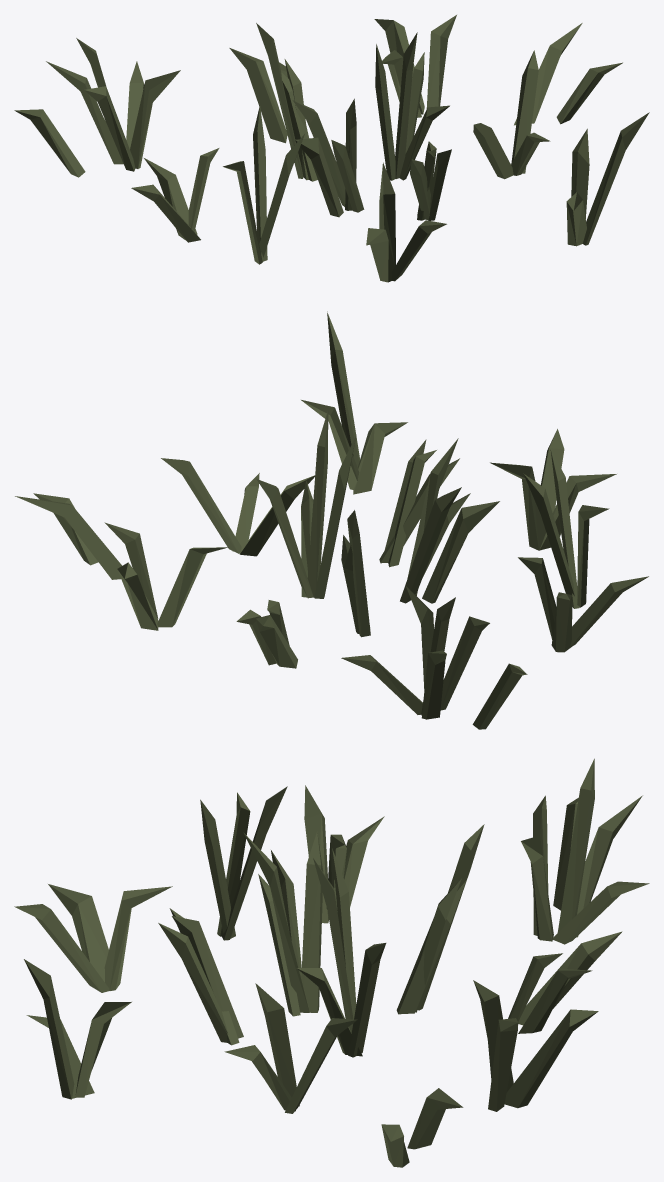
Rendered from SM_Generic_Grass_Patch_03.glb.
3 renders of one model, top to bottom at view 1: azimuth 30°, elevation 25°; view 2: azimuth 150°, elevation 25°; view 3: azimuth 270°, elevation 25°, orthographic. The views are drawn at different scales.
Visible parts, largest first — view 1: SM_Generic_Grass_Patch_03; view 2: SM_Generic_Grass_Patch_03; view 3: SM_Generic_Grass_Patch_03.
Part boxes in pixels (bbox=[...]): SM_Generic_Grass_Patch_03: bbox=[14, 15, 649, 282]; SM_Generic_Grass_Patch_03: bbox=[15, 311, 648, 729]; SM_Generic_Grass_Patch_03: bbox=[14, 758, 649, 1167].
Size of the model in its own units: 3.27 by 0.9256 by 2.72.
Materials: 1 (1 with a texture image).
